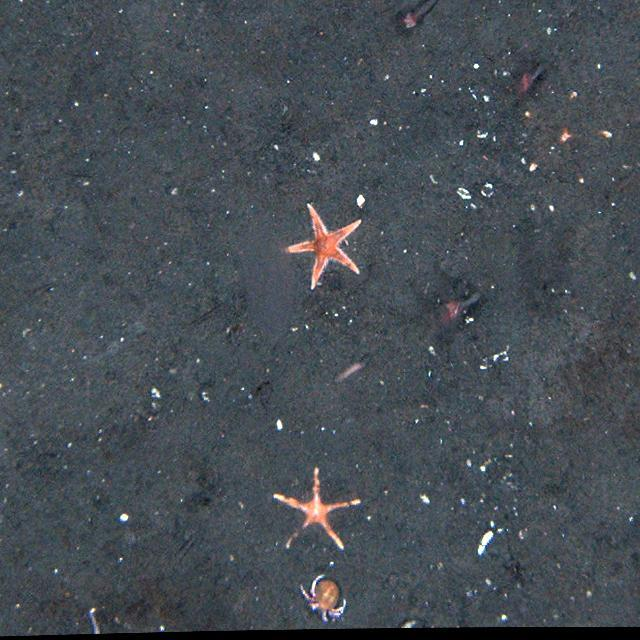crab: (298, 570, 348, 624)
